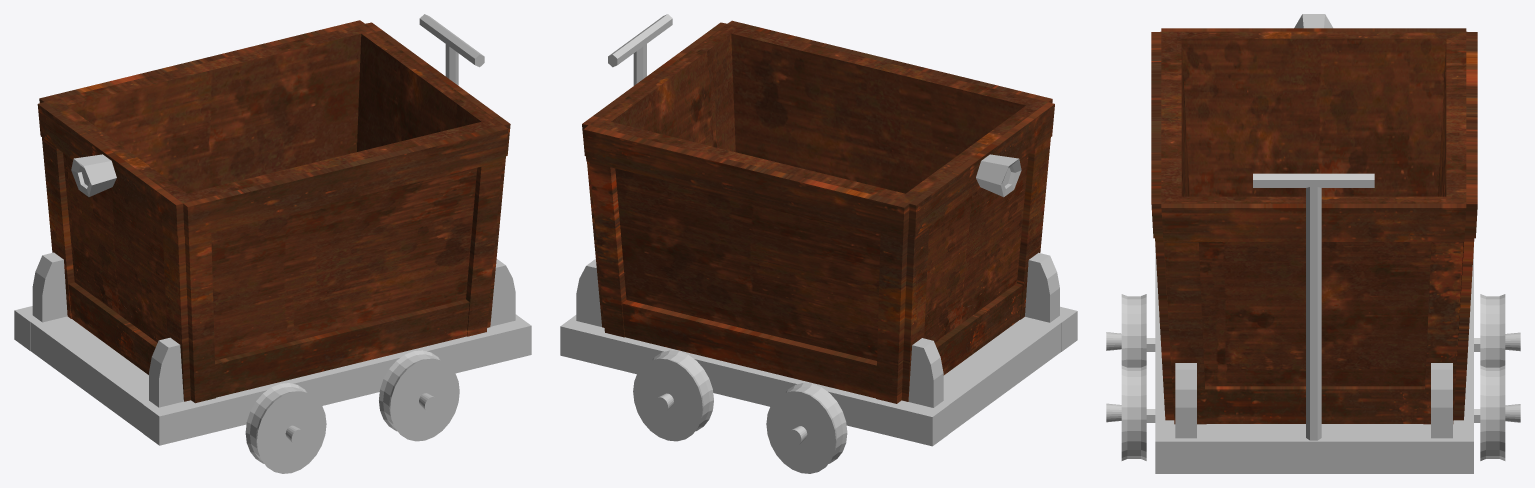
The model's file is Trolley.fbx.
3 renders of one model, left to right at view 1: azimuth 30°, elevation 25°; view 2: azimuth 150°, elevation 25°; view 3: azimuth 270°, elevation 25°, orthographic. The views are drawn at different scales.
Visible parts, largest first — view 1: Trolley; view 2: Trolley; view 3: Trolley.
Boxes of the visible parts, left/top/right/bottom form: Trolley: left=14, top=14, right=531, bottom=473; Trolley: left=560, top=14, right=1077, bottom=473; Trolley: left=1106, top=14, right=1520, bottom=473.
Bounding box in the file's own units: 1.83 × 1.44 × 1.57.
